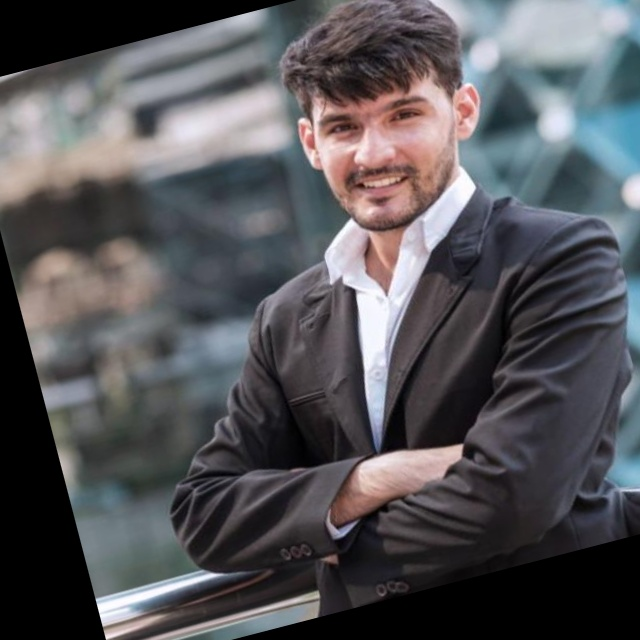Sin_Casco_Mascarrilla: (272, 0, 505, 242)
Sin_Chaleco: (242, 165, 640, 599)
